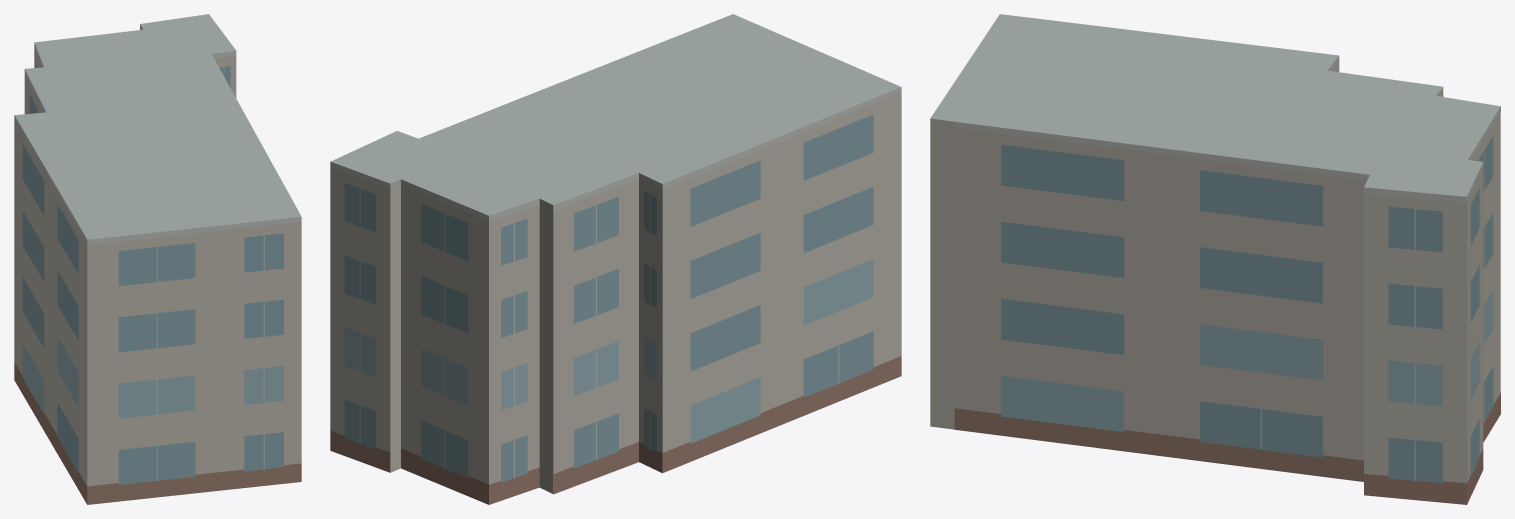
The model's file is survey-upis-32883189.glb.
3 renders of one model, left to right at view 1: azimuth 30°, elevation 25°; view 2: azimuth 150°, elevation 25°; view 3: azimuth 270°, elevation 25°, orthographic. The views are drawn at different scales.
Visible parts, largest first — view 1: survey-upis-32883189.tmp; view 2: survey-upis-32883189.tmp; view 3: survey-upis-32883189.tmp.
Part boxes in pixels (<box>): survey-upis-32883189.tmp: <box>14,14,301,504</box>; survey-upis-32883189.tmp: <box>330,14,901,504</box>; survey-upis-32883189.tmp: <box>930,14,1500,504</box>.
Bounding box in the file's own units: 16.06 × 12.6 × 21.17.
